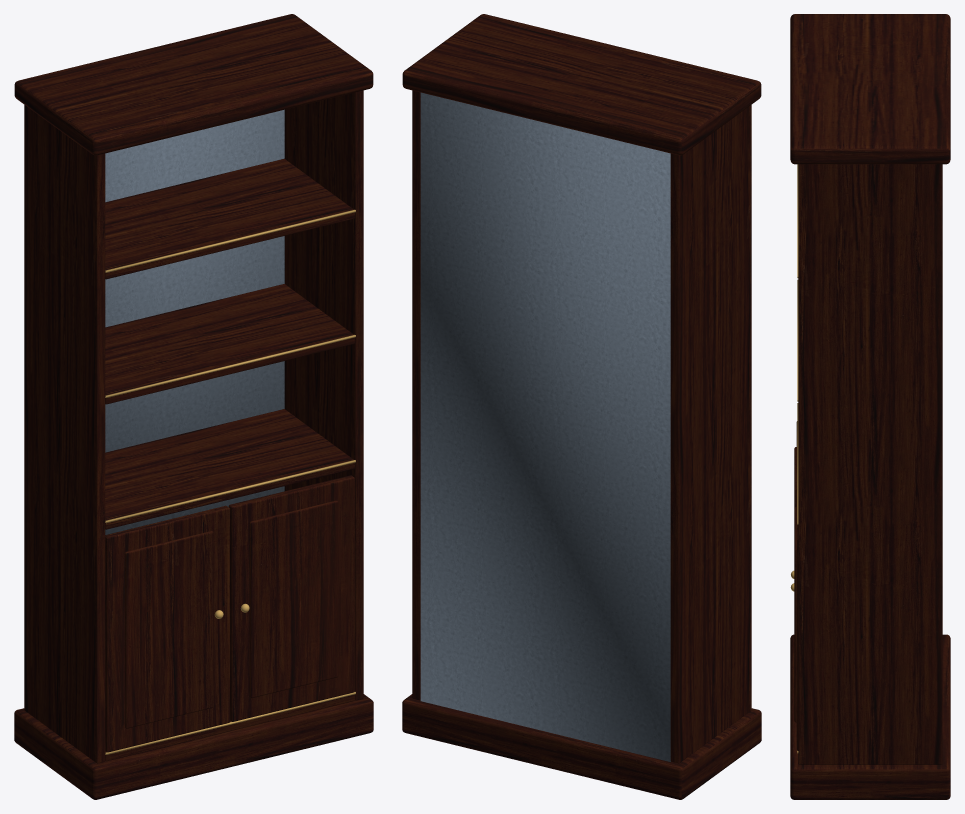
3 renders of one model, left to right at view 1: azimuth 30°, elevation 25°; view 2: azimuth 150°, elevation 25°; view 3: azimuth 270°, elevation 25°, orthographic.
Parts seen in each view (by area): view 1: Left side, Cornice, Back panel, Right side, Shelf 3, Shelf 2, Shelf 4, Raised panel 2, Raised panel 1, Base moulding, Door 1, Door 2 (+5 smaller); view 2: Back panel, Left side, Cornice, Base moulding, Right side; view 3: Right side, Cornice, Base moulding, Door 2, Raised panel 2.
Boxes of the visible parts, x1,y1,x2,y2 form: Left side: (24, 105, 105, 763); Cornice: (14, 14, 373, 155); Back panel: (105, 109, 284, 534); Right side: (284, 90, 363, 700); Shelf 3: (105, 284, 354, 404); Shelf 2: (105, 409, 354, 529); Shelf 4: (105, 158, 354, 279); Raised panel 2: (249, 500, 338, 698); Raised panel 1: (125, 531, 213, 728); Base moulding: (14, 694, 373, 799); Door 1: (105, 505, 229, 752); Door 2: (228, 475, 354, 721); Back panel: (420, 92, 670, 761); Left side: (670, 105, 751, 763); Cornice: (402, 14, 761, 155); Base moulding: (402, 694, 761, 799); Right side: (412, 90, 420, 700); Right side: (798, 164, 942, 764); Cornice: (790, 14, 950, 164); Base moulding: (790, 634, 950, 799); Door 2: (796, 481, 798, 750); Raised panel 2: (794, 507, 796, 722).
Bounding box in the file's own units: 0.8 × 1.8 × 0.4.
Materials: 3 (2 with a texture image).
